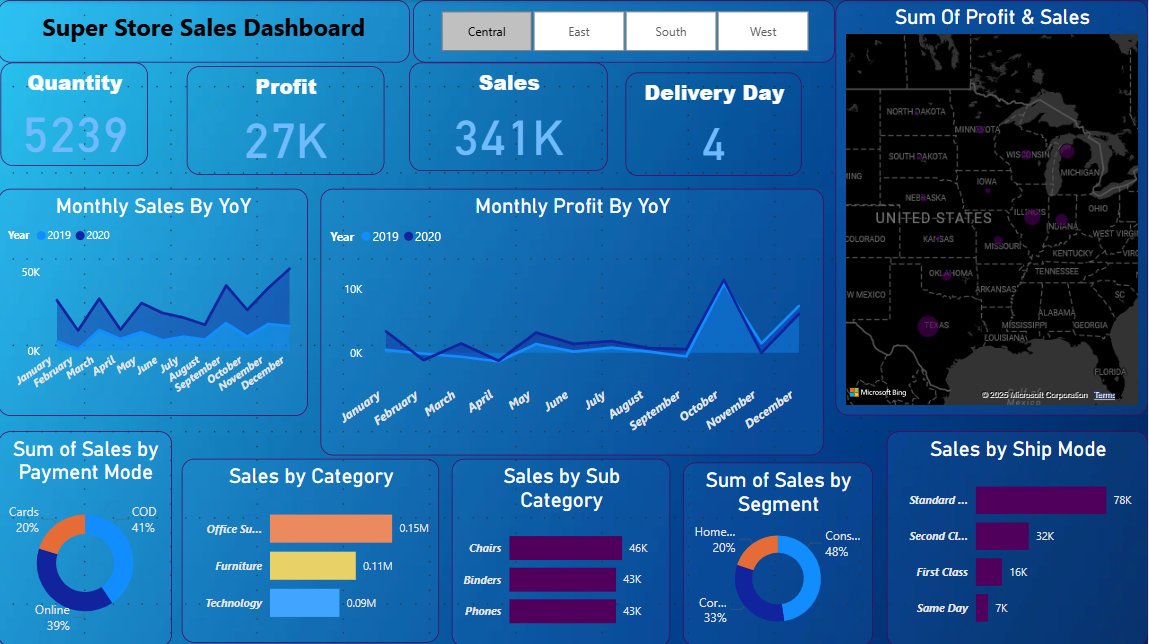

This screenshot's page, from the dashboard's own definition file:
{"tool":"powerbi","page":{"name":"Page 1","canvas":[1280,720],"ordinal":0},"visuals":[{"type":"clusteredBarChart","title":" Sales by Category","fields":{"Category":["SuperStore_Sales_Dataset.Category"],"Y":["Sum(SuperStore_Sales_Dataset.Sales)"]},"box":[205.1,510.5,286.5,205.1],"z":0},{"type":"clusteredBarChart","title":" Sales by Sub Category","fields":{"Category":["SuperStore_Sales_Dataset.Sub-Category"],"Y":["Sum(SuperStore_Sales_Dataset.Sales)"]},"box":[504.7,510.5,242.9,209.5],"z":1000},{"type":"clusteredBarChart","title":" Sales by Ship Mode","fields":{"Category":["SuperStore_Sales_Dataset.Ship Mode"],"Y":["Sum(SuperStore_Sales_Dataset.Sales)"]},"box":[989.1,480,290.9,240],"z":2000},{"type":"stackedAreaChart","title":" Monthly Sales By YoY","fields":{"Y":["Sum(SuperStore_Sales_Dataset.Sales)"],"Category":["SuperStore_Sales_Dataset.Order Date.Variation.Date Hierarchy.Month","SuperStore_Sales_Dataset.Order Date.Variation.Date Hierarchy.Day"],"Series":["SuperStore_Sales_Dataset.Order Date.Variation.Date Hierarchy.Year"]},"box":[0,209.5,344.7,253.1],"z":3000},{"type":"stackedAreaChart","title":" Monthly Profit By YoY","fields":{"Category":["SuperStore_Sales_Dataset.Order Date.Variation.Date Hierarchy.Month","SuperStore_Sales_Dataset.Order Date.Variation.Date Hierarchy.Day"],"Series":["SuperStore_Sales_Dataset.Order Date.Variation.Date Hierarchy.Year"],"Y":["Sum(SuperStore_Sales_Dataset.Profit)"]},"box":[359.3,209.5,560,296.7],"z":4000},{"type":"map","title":"Sum Of Profit & Sales","fields":{"Category":["SuperStore_Sales_Dataset.State"],"Size":["Sum(SuperStore_Sales_Dataset.Sales)"]},"box":[932.4,0,347.6,462.5],"z":5000},{"type":"donutChart","fields":{"Category":["SuperStore_Sales_Dataset.Segment"],"Y":["Sum(SuperStore_Sales_Dataset.Sales)"]},"box":[762.2,514.9,210.9,205.1],"z":6000},{"type":"donutChart","fields":{"Y":["Sum(SuperStore_Sales_Dataset.Sales)"],"Category":["SuperStore_Sales_Dataset.Payment Mode"]},"box":[0,480,193.5,240],"z":7000},{"type":"slicer","fields":{"Values":["SuperStore_Sales_Dataset.Region"]},"box":[462.5,0,469.8,69.8],"z":8000},{"type":"textbox","box":[0,0,458.2,69.8],"z":9000},{"type":"card","title":"Sales","fields":{"Values":["Sum(SuperStore_Sales_Dataset.Sales)"]},"box":[458.2,69.8,221.1,120.7],"z":10000},{"type":"card","title":"Quantity","fields":{"Values":["Sum(SuperStore_Sales_Dataset.Quantity)"]},"box":[2.9,69.8,164.4,114.9],"z":11000},{"type":"card","title":"Profit","fields":{"Values":["Sum(SuperStore_Sales_Dataset.Profit)"]},"box":[209.5,74.2,219.6,120.7],"z":12000},{"type":"card","title":"Delivery Day","fields":{"Values":["Avg(SuperStore_Sales_Dataset.Avg_Del)"]},"box":[698.2,80,196.4,114.9],"z":13000}]}

Visuals, with their boxes in screenshot pixels (x1, y1, x2, y2), scaled from the page's 1280x720 canvas onto the 1149x644 screenshot:
" Sales by Category" clusteredBarChart: pyautogui.locateOnScreen(184, 457, 441, 640)
" Sales by Sub Category" clusteredBarChart: pyautogui.locateOnScreen(453, 457, 671, 643)
" Sales by Ship Mode" clusteredBarChart: pyautogui.locateOnScreen(888, 429, 1148, 643)
" Monthly Sales By YoY" stackedAreaChart: pyautogui.locateOnScreen(0, 187, 309, 414)
" Monthly Profit By YoY" stackedAreaChart: pyautogui.locateOnScreen(323, 187, 825, 453)
"Sum Of Profit & Sales" map: pyautogui.locateOnScreen(837, 0, 1148, 414)
donutChart - SuperStore_Sales_Dataset.Segment x Sum(SuperStore_Sales_Dataset.Sales): pyautogui.locateOnScreen(684, 461, 874, 643)
donutChart - Sum(SuperStore_Sales_Dataset.Sales) x SuperStore_Sales_Dataset.Payment Mode: pyautogui.locateOnScreen(0, 429, 174, 643)
slicer - SuperStore_Sales_Dataset.Region: pyautogui.locateOnScreen(415, 0, 837, 62)
textbox: pyautogui.locateOnScreen(0, 0, 411, 62)
"Sales" card: pyautogui.locateOnScreen(411, 62, 610, 170)
"Quantity" card: pyautogui.locateOnScreen(3, 62, 150, 165)
"Profit" card: pyautogui.locateOnScreen(188, 66, 385, 174)
"Delivery Day" card: pyautogui.locateOnScreen(627, 72, 803, 174)
